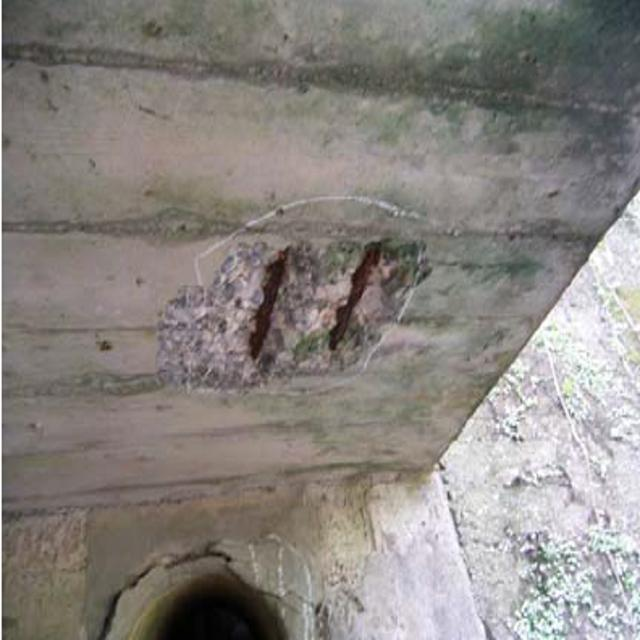spalling: (167, 202, 432, 404)
